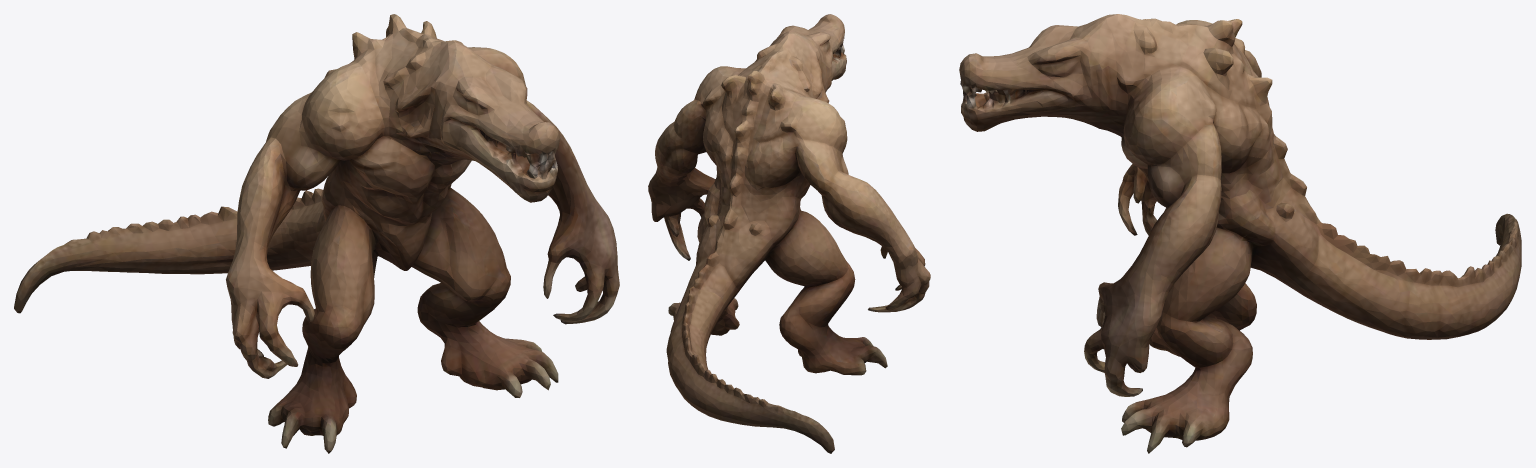
The model's file is roi-sables.glb.
3 views of the same model, side by side, from view 1: azimuth 30°, elevation 25°; view 2: azimuth 150°, elevation 25°; view 3: azimuth 270°, elevation 25° (orthographic). The views are drawn at different scales.
Parts seen in each view (by area): view 1: world; view 2: world; view 3: world.
Part boxes in pixels (x1,y1,x2,y2): world: (14, 14, 619, 453); world: (648, 14, 930, 453); world: (959, 14, 1521, 453).
Size of the model in its own units: 0.8656 by 0.7655 by 0.9998.
1 material, 1 textured.
